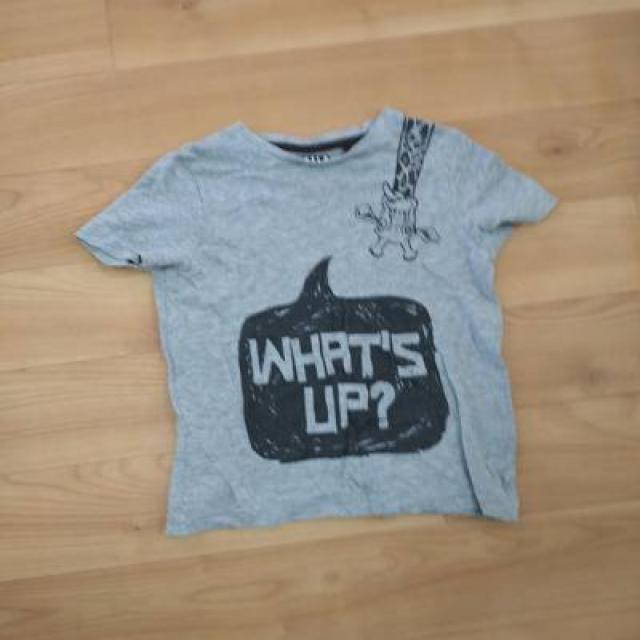Clothes -Biodegradable-: (76, 107, 560, 530)
